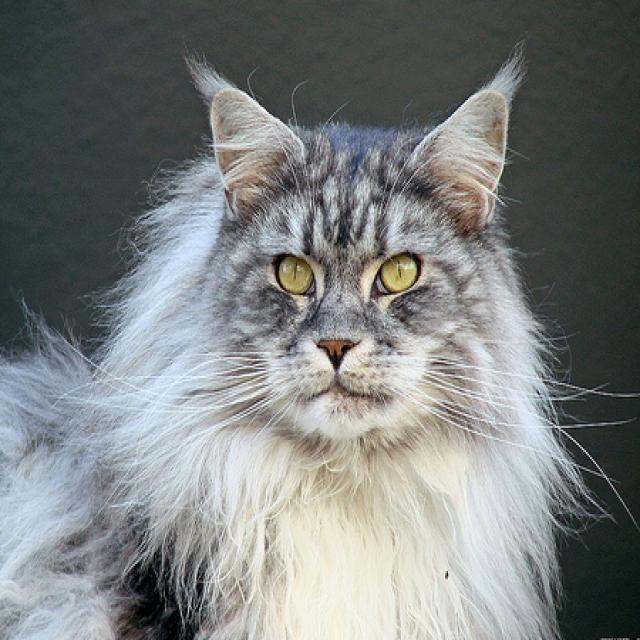Maine Coon: (0, 60, 589, 640)
